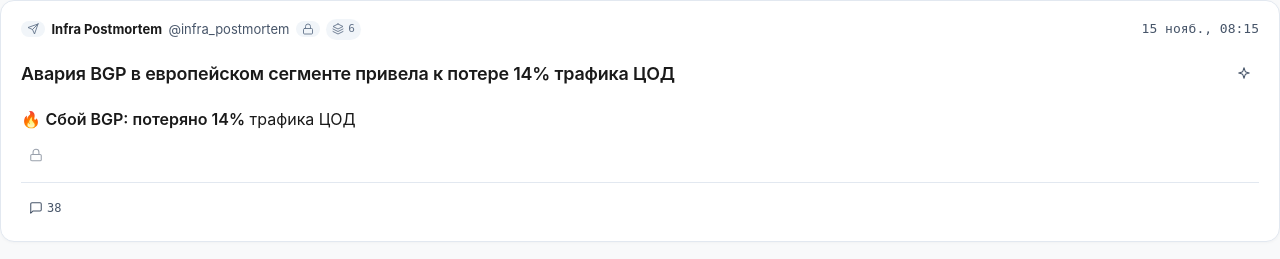
Scenario: Section 10 UI/UX & Architecture Specification › supports reversible AI headline toggle and private B2B lock in PostCard
Expected: the heading "Авария BGP в европейском сегменте привела к потере 14% трафика ЦОД" is shown, [21,62,675,84]
Click the button named "Заголовок очищен" at (1244, 73), box [1229,58,1259,88]
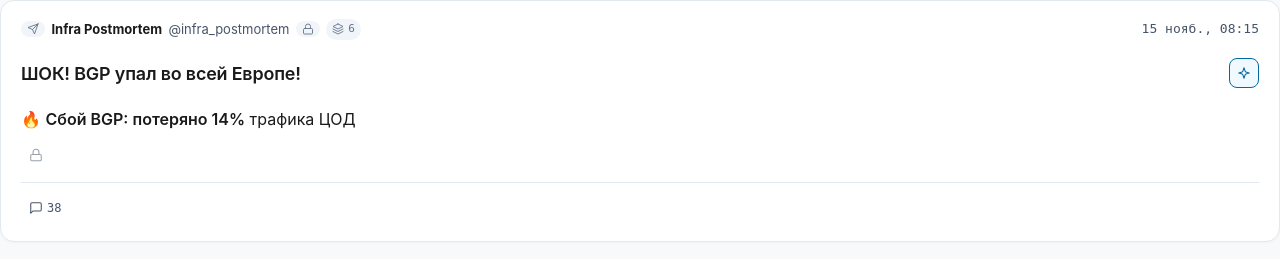
Expected: the button named "Экспорт ограничен" is disabled, [21,140,51,170]
Now the heading "ШОК! BGP упал во всей Европе!" is shown, box [21,62,301,84]
